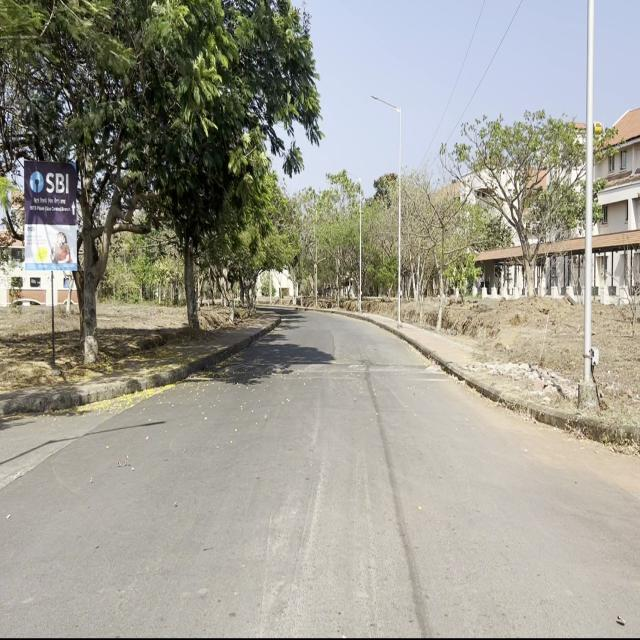Road: (1, 307, 639, 633)
